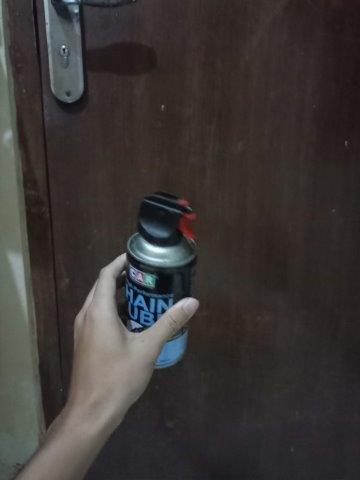kaleng: (126, 232, 197, 368)
